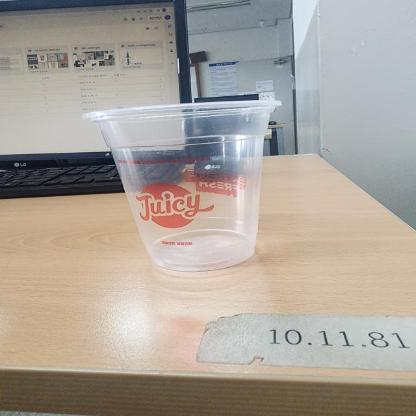Plastic Cup: (84, 100, 280, 272)
